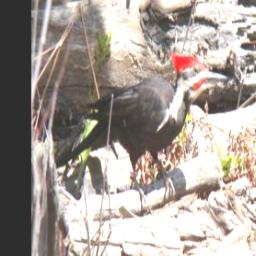Woodpecker: (55, 51, 230, 210)
